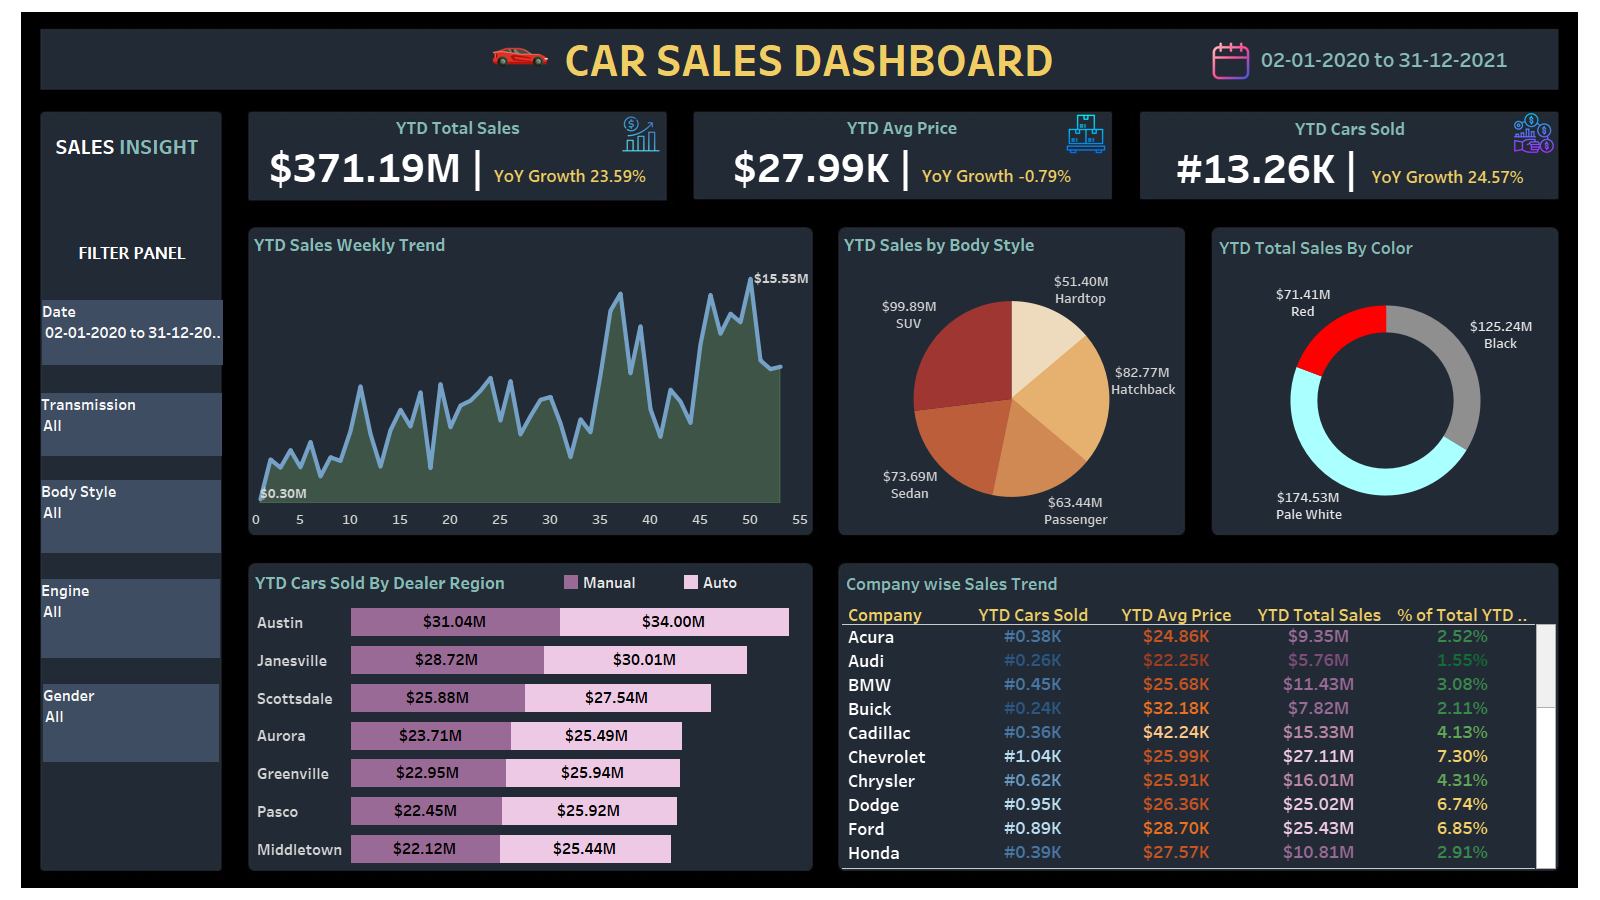

The page's visual inventory and layout, read from the dashboard file:
{"tool":"tableau","page":{"name":"Dashboard 1","canvas":[1600,900],"ordinal":0},"visuals":[{"type":"image","param":"E:/DATA ANALYTICS/TABLEAU PROJECTS/PROJECT 2/Car Sales Background.jpg","box":[8,8,1584,884]},{"type":"image","param":"E:/DATA ANALYTICS/TABLEAU PROJECTS/PROJECT 2/Images Used/sport-car.png","box":[487,29,66,56]},{"type":"text","box":[548,29,522,58]},{"type":"worksheet","title":"Date Range","mark":"Automatic","box":[1212,31,346,57]},{"type":"image","param":"E:/DATA ANALYTICS/TABLEAU PROJECTS/PROJECT 2/Images Used/calendar.png","box":[1208,40,46,41]},{"type":"image","param":"E:/DATA ANALYTICS/TABLEAU PROJECTS/PROJECT 2/Images Used/Cars Sold Icon.png","box":[1511,112,46,41]},{"type":"image","param":"E:/DATA ANALYTICS/TABLEAU PROJECTS/PROJECT 2/Images Used/Sales Icon.png","box":[618,113,46,41]},{"type":"worksheet","title":"YTD Avg Price","mark":"Automatic","box":[695,113,415,83]},{"type":"image","param":"E:/DATA ANALYTICS/TABLEAU PROJECTS/PROJECT 2/Images Used/Avg Price Icon.png","box":[1063,113,46,41]},{"type":"worksheet","title":"YTD Total Sales","mark":"Automatic","box":[252,114,412,83]},{"type":"worksheet","title":"YTD Cars Sold","mark":"Automatic","box":[1143,115,415,82]},{"type":"text","box":[52,131,150,30]},{"type":"worksheet","title":"YTD Sales Weekly Trend","mark":"Area","rows":["Calculation_591660452321329152","Calculation_591660452321329152"],"cols":["Date"],"box":[250,227,560,306]},{"type":"worksheet","title":"YTD Sales by Body Style","mark":"Pie","box":[840,227,343,306]},{"type":"worksheet","title":"YTD Total Sales By Color","mark":"Pie","rows":["Calculation_591660452374659082","Calculation_591660452374716428"],"box":[1215,229,341,304]},{"type":"text","box":[43,237,177,30]},{"type":"filter","title":"YTD Sales Weekly Trend","param":"[federated.1o9uuyt1v45exy1g49rl002l9kq2].[none:Date:qk]","box":[42,300,181,65]},{"type":"filter","title":"YTD Sales Weekly Trend","param":"[federated.1o9uuyt1v45exy1g49rl002l9kq2].[none:Transmission:nk]","box":[41,393,181,63]},{"type":"filter","title":"YTD Sales Weekly Trend","param":"[federated.1o9uuyt1v45exy1g49rl002l9kq2].[none:Body Style:nk]","box":[41,480,180,73]},{"type":"worksheet","title":"YTD Cars Sold By Dealer Region","mark":"Automatic","rows":["Dealer_Region"],"cols":["Calculation_591660452321329152"],"box":[251,565,560,303]},{"type":"worksheet","title":"Company wise Sales Trend","mark":"Automatic","rows":["Company"],"box":[842,565,714,304]},{"type":"legend","title":"YTD Cars Sold By Dealer Region","param":"[federated.1o9uuyt1v45exy1g49rl002l9kq2].[none:Transmission:nk]","box":[561,572,245,26]},{"type":"filter","title":"YTD Sales Weekly Trend","param":"[federated.1o9uuyt1v45exy1g49rl002l9kq2].[none:Engine:nk]","box":[41,579,179,79]},{"type":"filter","title":"YTD Sales Weekly Trend","param":"[federated.1o9uuyt1v45exy1g49rl002l9kq2].[none:Gender:nk]","box":[43,684,176,78]}]}

Visuals, with their boxes in screenshot pixels (x1, y1, x2, y2), scaled from the page's 1600x900 canvas onto the 1600x900 screenshot:
image: 8:8:1592:892
image: 487:29:553:85
text: 548:29:1070:87
"Date Range" worksheet: 1212:31:1558:88
image: 1208:40:1254:81
image: 1511:112:1557:153
image: 618:113:664:154
"YTD Avg Price" worksheet: 695:113:1110:196
image: 1063:113:1109:154
"YTD Total Sales" worksheet: 252:114:664:197
"YTD Cars Sold" worksheet: 1143:115:1558:197
text: 52:131:202:161
"YTD Sales Weekly Trend" worksheet (Area marks): 250:227:810:533
"YTD Sales by Body Style" worksheet (Pie marks): 840:227:1183:533
"YTD Total Sales By Color" worksheet (Pie marks): 1215:229:1556:533
text: 43:237:220:267
"YTD Sales Weekly Trend" filter: 42:300:223:365
"YTD Sales Weekly Trend" filter: 41:393:222:456
"YTD Sales Weekly Trend" filter: 41:480:221:553
"YTD Cars Sold By Dealer Region" worksheet: 251:565:811:868
"Company wise Sales Trend" worksheet: 842:565:1556:869
"YTD Cars Sold By Dealer Region" legend: 561:572:806:598
"YTD Sales Weekly Trend" filter: 41:579:220:658
"YTD Sales Weekly Trend" filter: 43:684:219:762
